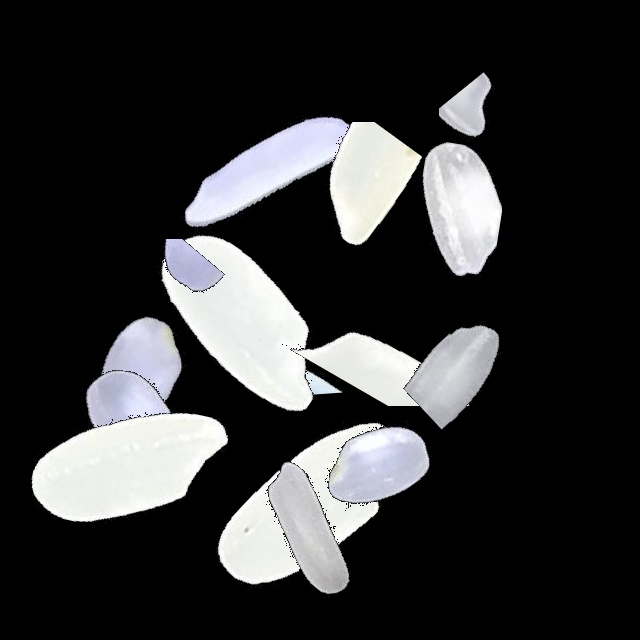Broken: (254, 373, 422, 623), (353, 268, 603, 431), (340, 80, 502, 330), (225, 122, 475, 268), (280, 276, 530, 406), (439, 8, 543, 258), (38, 239, 288, 342), (287, 220, 382, 470)
Full: (13, 246, 263, 496), (189, 380, 439, 630), (3, 294, 253, 544), (121, 194, 371, 444), (142, 46, 392, 296), (250, 342, 500, 592), (1, 342, 251, 592)
